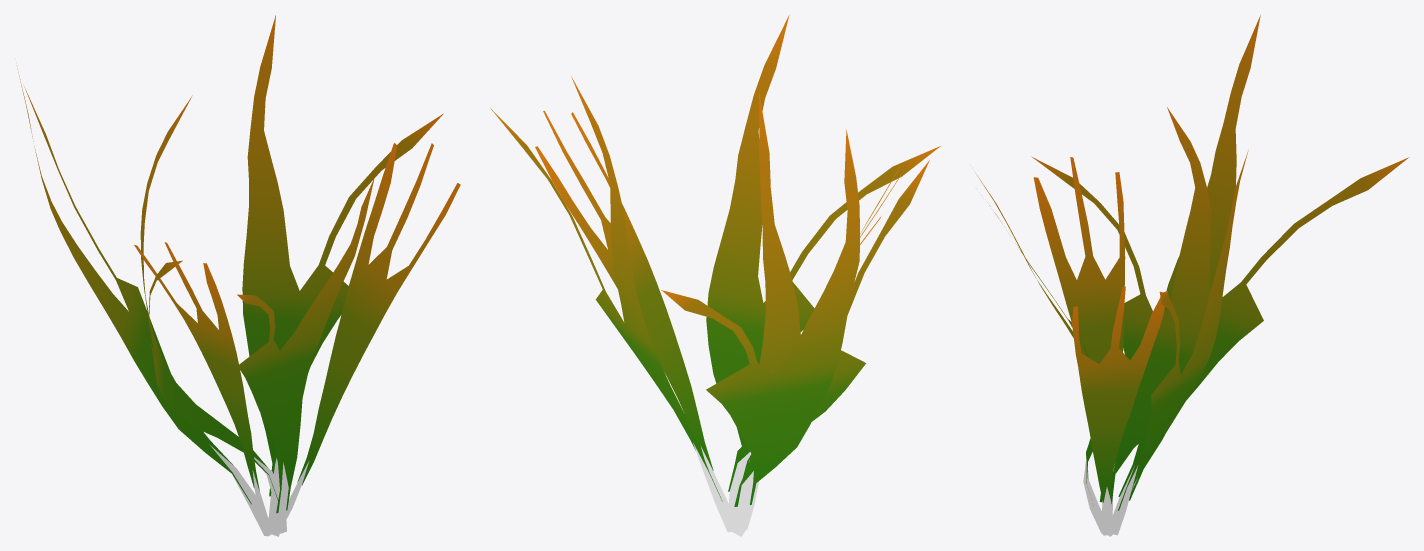
The model's file is sjglk_Var4_LOD0.fbx.
3 views of the same model, side by side, from view 1: azimuth 30°, elevation 25°; view 2: azimuth 150°, elevation 25°; view 3: azimuth 270°, elevation 25° (orthographic). The views are drawn at different scales.
Parts seen in each view (by area): view 1: _c028_Var4_LOD0; view 2: _c028_Var4_LOD0; view 3: _c028_Var4_LOD0.
Part boxes in pixels (<box>): _c028_Var4_LOD0: <box>16,15,460,536</box>; _c028_Var4_LOD0: <box>490,15,940,536</box>; _c028_Var4_LOD0: <box>975,15,1409,536</box>.
Size of the model in its own units: 54.89 by 65.12 by 59.07.
